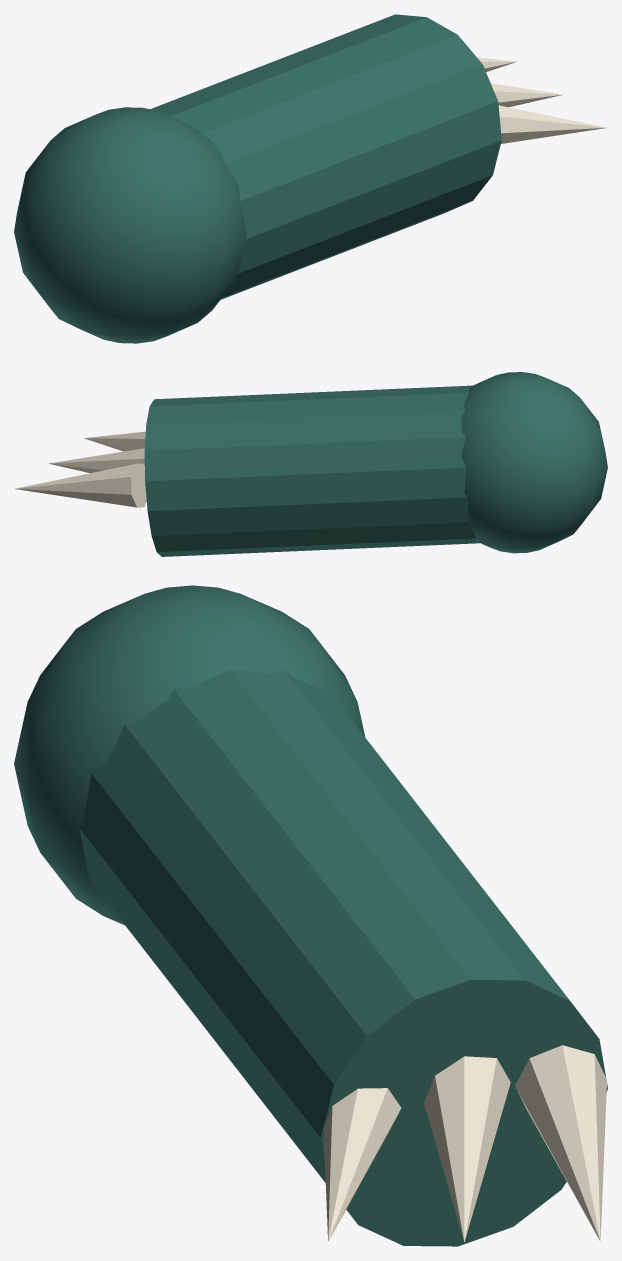
The model's file is SM_Keeper_Sobek_Leg11.fbx.
The picture shows the model from 3 angles, top to bottom: view 1: azimuth 30°, elevation 25°; view 2: azimuth 150°, elevation 25°; view 3: azimuth 270°, elevation 25°; orthographic projection. The views are drawn at different scales.
Parts seen in each view (by area): view 1: SM_Keeper_Sobek_Leg11; view 2: SM_Keeper_Sobek_Leg11; view 3: SM_Keeper_Sobek_Leg11.
Boxes of the visible parts, <box> form: SM_Keeper_Sobek_Leg11: <box>14,14,607,343</box>; SM_Keeper_Sobek_Leg11: <box>15,372,607,556</box>; SM_Keeper_Sobek_Leg11: <box>14,585,607,1246</box>.
Size of the model in its own units: 6.09 by 2.3 by 3.33.
